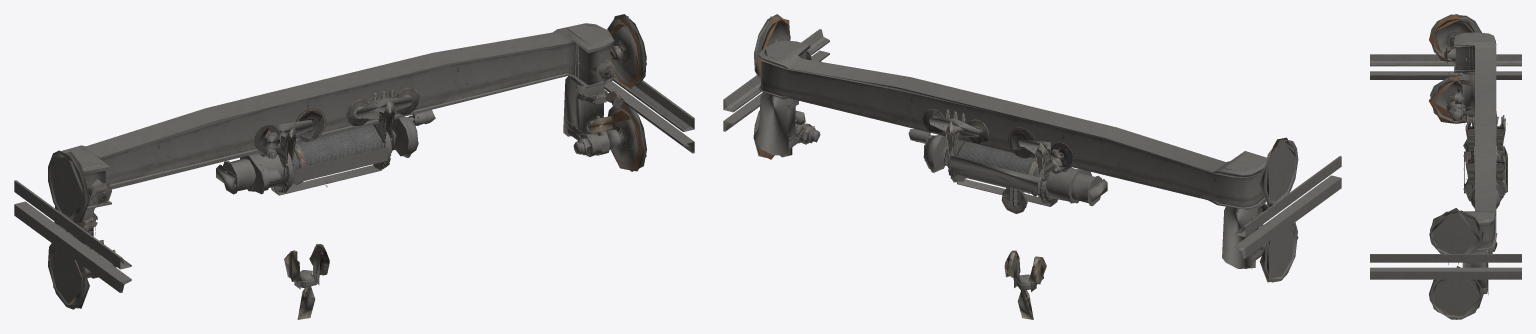
File: overhead_crane.glb
3 views of the same model, side by side, from view 1: azimuth 30°, elevation 25°; view 2: azimuth 150°, elevation 25°; view 3: azimuth 270°, elevation 25° (orthographic). The views are drawn at different scales.
Parts seen in each view (by area): view 1: overhead_crane_rails, overhead_crane_winch; view 2: overhead_crane_rails, overhead_crane_winch; view 3: overhead_crane_rails, overhead_crane_winch.
Boxes of the visible parts, bbox=[...] form: overhead_crane_rails: bbox=[14, 14, 694, 309]; overhead_crane_winch: bbox=[52, 16, 646, 319]; overhead_crane_rails: bbox=[723, 14, 1341, 291]; overhead_crane_winch: bbox=[753, 16, 1298, 319]; overhead_crane_rails: bbox=[1370, 14, 1521, 319]; overhead_crane_winch: bbox=[1429, 14, 1507, 319].
Size of the model in its own units: 12.49 by 5.1 by 4.
2 materials, 2 textured.
